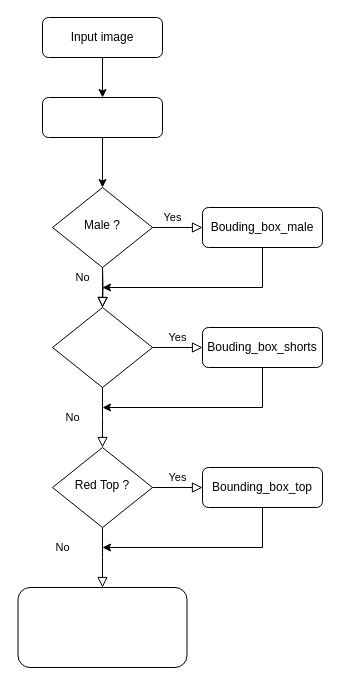
The diagram is 340 pixels wide and 685 high, and some of its shapes have lost their labels. The shapes that lost their labels are listed below. From the top down, each one's box as (x1, y1, x2, y2) in pixels, then its label:
(42, 96, 162, 138): AI model
(52, 306, 152, 388): Black Shorts?
(17, 586, 187, 668): Output image with bounding boxes (if there is)
